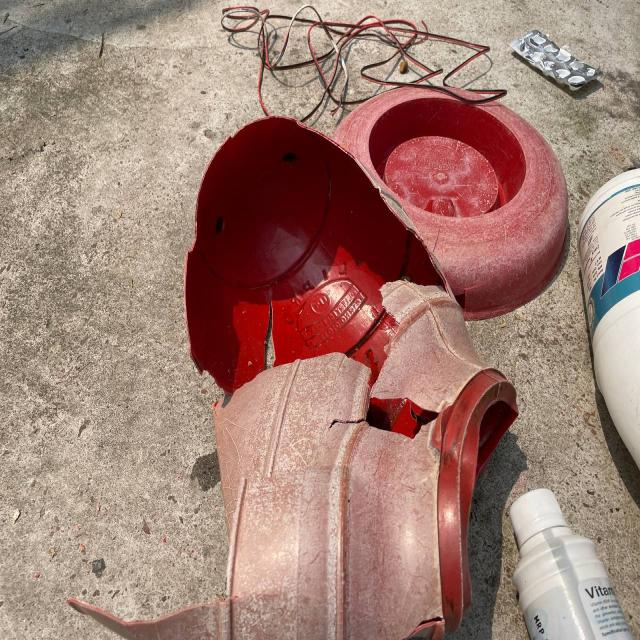Cable: (221, 0, 476, 89)
Medical Waste: (512, 30, 596, 94)
Plastics: (176, 95, 640, 640)
